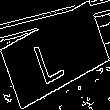L_NW: (36, 26, 74, 84)
